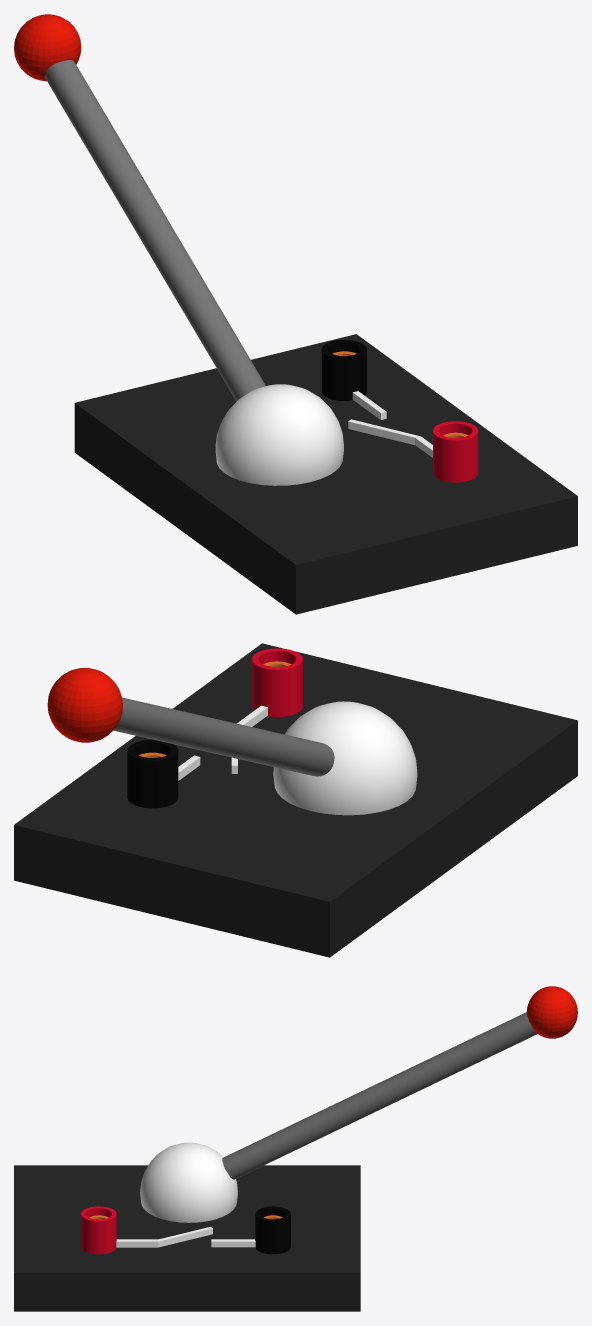
File: Ключ.fbx
3 views of the same model, one above another, from view 1: azimuth 30°, elevation 25°; view 2: azimuth 150°, elevation 25°; view 3: azimuth 270°, elevation 25° (orthographic). The views are drawn at different scales.
Parts seen in each view (by area): view 1: Cube, Куб, Сфера, Сфера.001, Цилиндр, Цилиндр.001, Куб.001; view 2: Cube, Сфера, Куб, Сфера.001, Цилиндр.001, Цилиндр, Куб.001; view 3: Cube, Куб, Сфера, Сфера.001, Цилиндр.001, Цилиндр, Куб.001.
Boxes of the visible parts, left/top/right/bottom form: Cube: left=74, top=334, right=577, bottom=614; Куб: left=44, top=60, right=265, bottom=401; Сфера: left=215, top=384, right=343, bottom=485; Сфера.001: left=14, top=14, right=81, bottom=81; Цилиндр: left=433, top=421, right=478, bottom=482; Цилиндр.001: left=321, top=339, right=366, bottom=400; Куб.001: left=348, top=391, right=432, bottom=457; Cube: left=14, top=643, right=577, bottom=957; Сфера: left=273, top=701, right=417, bottom=815; Куб: left=113, top=697, right=334, bottom=776; Сфера.001: left=47, top=667, right=122, bottom=742; Цилиндр.001: left=127, top=739, right=178, bottom=808; Цилиндр: left=252, top=648, right=302, bottom=716; Куб.001: left=178, top=705, right=267, bottom=780; Cube: left=14, top=1165, right=360, bottom=1311; Куб: left=222, top=1012, right=537, bottom=1179; Сфера: left=140, top=1142, right=237, bottom=1222; Сфера.001: left=526, top=986, right=577, bottom=1038; Цилиндр.001: left=255, top=1206, right=290, bottom=1254; Цилиндр: left=81, top=1206, right=116, bottom=1254; Куб.001: left=116, top=1227, right=255, bottom=1247.
Size of what is drawn, in the model's own units: 712 by 778 by 1577.
